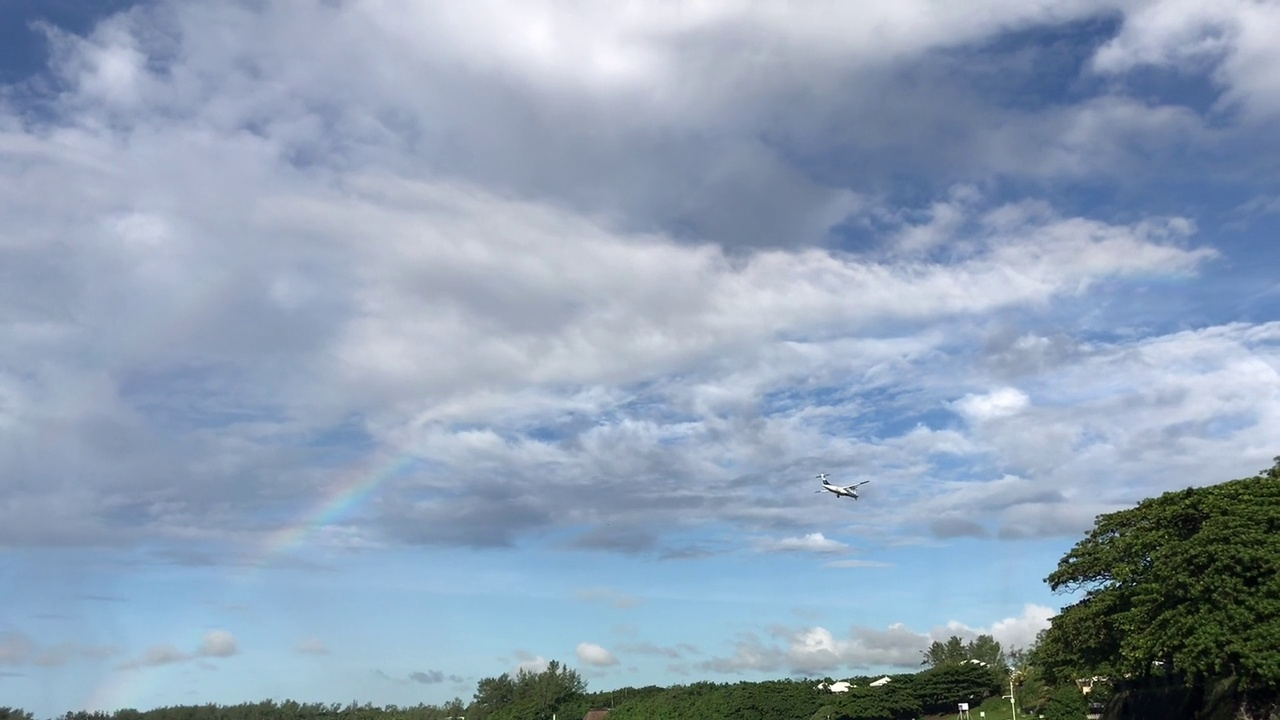plane: (813, 471, 869, 500)
